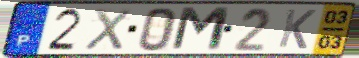0: (136, 6, 178, 53)
2: (231, 6, 274, 52), (46, 7, 85, 52)
K: (275, 8, 318, 51)
M: (168, 5, 233, 53)
X: (82, 7, 133, 51)
